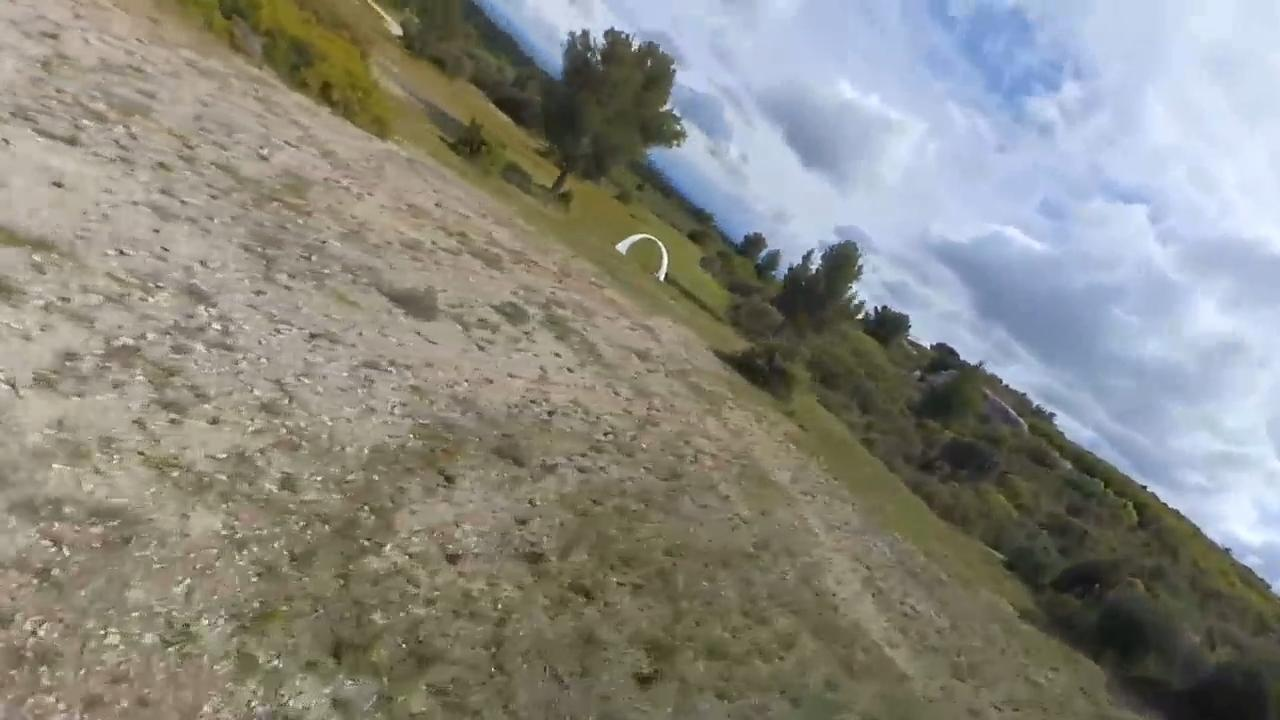gate: (615, 230, 667, 282)
